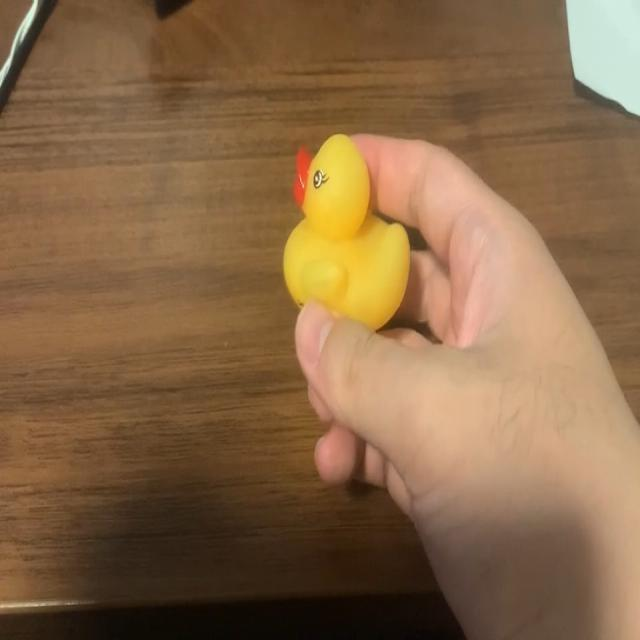rubber-duck: (283, 133, 408, 327)
